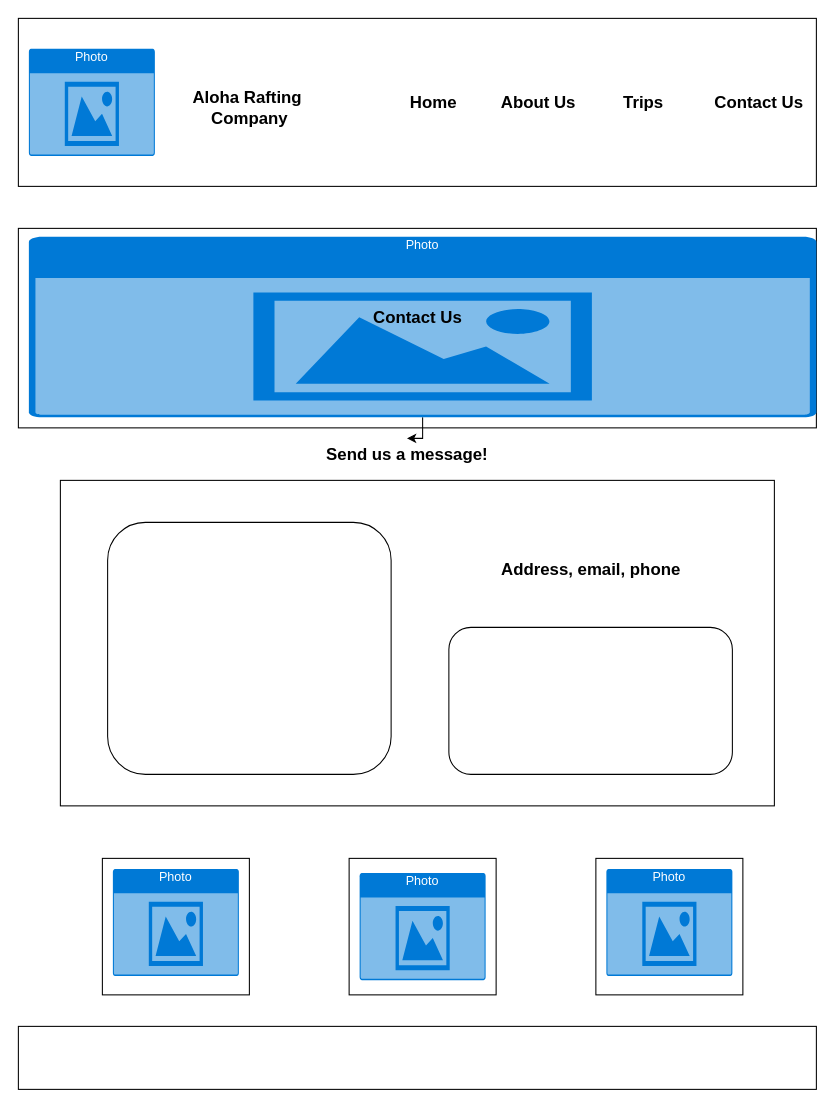
Image size: 835x1108. Some labels were removed from this diagram. The box of each missing label's shape, as (x1, y1, x2, y2) in pixels:
Footer: (17, 1025, 816, 1089)
Form: (107, 521, 391, 774)
Google Map: (448, 626, 732, 774)
